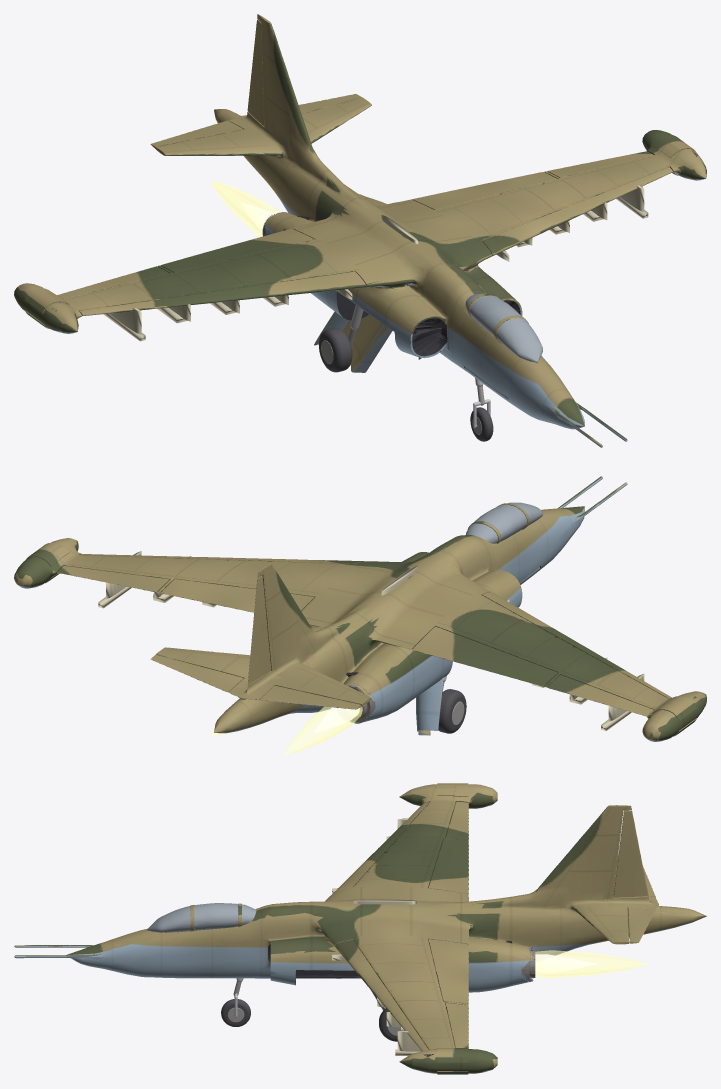
3 renders of one model, top to bottom at view 1: azimuth 30°, elevation 25°; view 2: azimuth 150°, elevation 25°; view 3: azimuth 270°, elevation 25°, orthographic. The views are drawn at different scales.
Parts seen in each view (by area): view 1: fsim:section:nose, fsim:section:centre, fsim:section:right-wing, fsim:section:tail, fsim:section:left-wing, fsim:lef@0,12 (×2), fsim:flaps (×2), Right Main Gear door, fsim:aileron (×2), fsim:afterburner:1, fsim:wheel:2:0.42, fsim:rudder (+2 smaller); view 2: fsim:section:centre, fsim:section:tail, fsim:section:right-wing, fsim:section:left-wing, fsim:section:nose, fsim:flaps (×2), fsim:aileron (×2), fsim:elevator (×2), fsim:lef@0,12 (×2), fsim:afterburner:1, fsim:rudder, Right Main Gear door (+2 smaller); view 3: fsim:section:centre, fsim:section:tail, fsim:section:nose, fsim:section:left-wing, fsim:section:right-wing, fsim:flaps (×2), fsim:lef@0,12 (×2), fsim:afterburner:0, fsim:rudder, fsim:aileron (×2), fsim:elevator, fsim:wheel:0:0.33 (+1 smaller).
Part boxes in pixels (left/top/right/bottom): fsim:section:nose: left=393, top=273, right=627, bottom=447; fsim:section:centre: left=14, top=130, right=706, bottom=357; fsim:section:right-wing: left=41, top=216, right=416, bottom=318; fsim:section:tail: left=155, top=14, right=371, bottom=236; fsim:section:left-wing: left=376, top=137, right=696, bottom=274; fsim:lef@0,12 (×2): left=79, top=167, right=672, bottom=315; fsim:flaps (×2): left=160, top=172, right=557, bottom=272; Right Main Gear door: left=314, top=311, right=392, bottom=372; fsim:aileron (×2): left=57, top=151, right=653, bottom=298; fsim:afterburner:1: left=211, top=181, right=279, bottom=236; fsim:wheel:2:0.42: left=318, top=327, right=352, bottom=372; fsim:rudder: left=247, top=19, right=264, bottom=126; fsim:section:centre: left=14, top=537, right=706, bottom=741; fsim:section:tail: left=156, top=563, right=385, bottom=733; fsim:section:right-wing: left=371, top=572, right=696, bottom=718; fsim:section:left-wing: left=41, top=541, right=410, bottom=631; fsim:section:nose: left=407, top=476, right=627, bottom=607; fsim:flaps (×2): left=161, top=579, right=557, bottom=686; fsim:aileron (×2): left=57, top=566, right=653, bottom=716; fsim:elevator (×2): left=150, top=654, right=361, bottom=709; fsim:lef@0,12 (×2): left=80, top=554, right=671, bottom=698; fsim:afterburner:1: left=285, top=706, right=362, bottom=754; fsim:rudder: left=247, top=576, right=271, bottom=684; Right Main Gear door: left=416, top=677, right=443, bottom=735; fsim:section:centre: left=271, top=784, right=517, bottom=1073; fsim:section:tail: left=503, top=805, right=706, bottom=985; fsim:section:nose: left=14, top=902, right=301, bottom=983; fsim:section:left-wing: left=314, top=917, right=476, bottom=1056; fsim:section:right-wing: left=325, top=787, right=476, bottom=901; fsim:flaps (×2): left=428, top=839, right=468, bottom=1003; fsim:lef@0,12 (×2): left=334, top=802, right=429, bottom=1051; fsim:afterburner:0: left=535, top=950, right=647, bottom=978; fsim:rudder: left=613, top=810, right=648, bottom=897; fsim:aileron (×2): left=445, top=801, right=468, bottom=1048; fsim:elevator: left=628, top=907, right=655, bottom=943; fsim:wheel:0:0.33: left=221, top=999, right=250, bottom=1026.
Size of the model in its own units: 14.4 by 5.42 by 15.28.
Materials: 13 (1 with a texture image).
